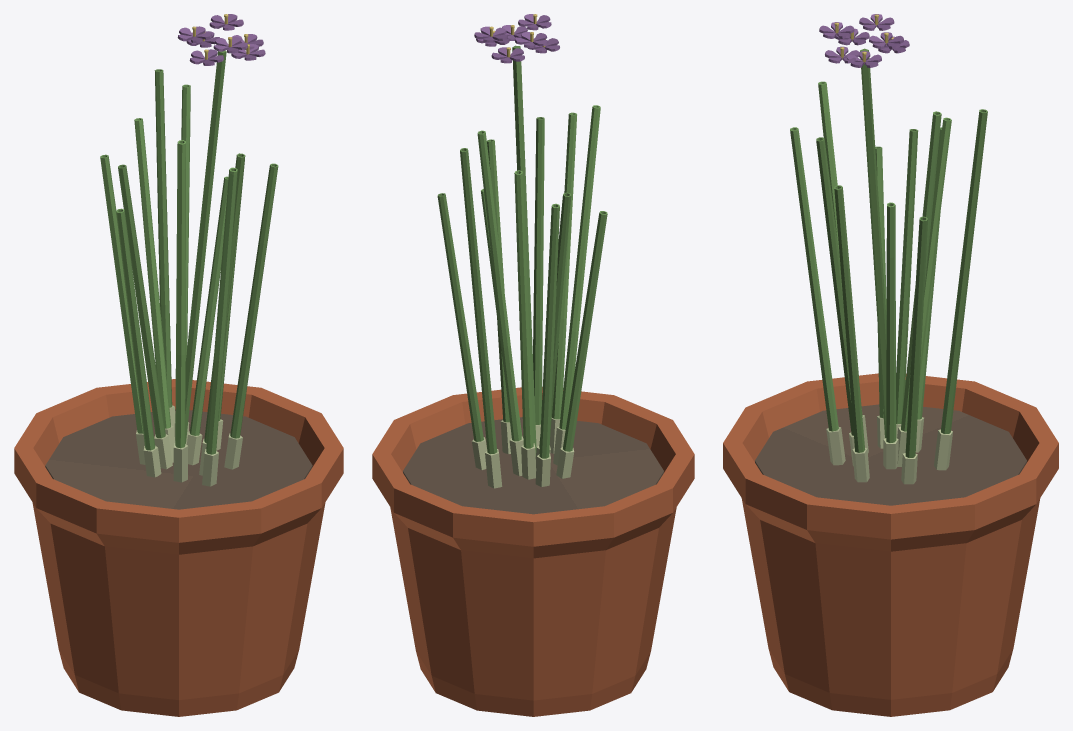
File: chives.glb
The picture shows the model from 3 angles, left to right: view 1: azimuth 30°, elevation 25°; view 2: azimuth 150°, elevation 25°; view 3: azimuth 270°, elevation 25°; orthographic projection. The views are drawn at different scales.
Parts seen in each view (by area): view 1: chives/review-terra-vessel, chives/review-rooted-soil, chives/petiole-025, chives/hollow-tubular-leaf-016, chives/hollow-tubular-leaf-024, chives/hollow-tubular-leaf-014, chives/hollow-tubular-leaf-006, chives/hollow-tubular-leaf-012, chives/hollow-tubular-leaf-020, chives/hollow-tubular-leaf-010, chives/hollow-tubular-leaf-002, chives/hollow-tubular-leaf-004 (+4 smaller); view 2: chives/review-terra-vessel, chives/review-rooted-soil, chives/hollow-tubular-leaf-016, chives/hollow-tubular-leaf-008, chives/hollow-tubular-leaf-024, chives/hollow-tubular-leaf-022, chives/hollow-tubular-leaf-014, chives/hollow-tubular-leaf-004, chives/hollow-tubular-leaf-018, chives/hollow-tubular-leaf-010, chives/hollow-tubular-leaf-006, chives/petiole-025 (+3 smaller); view 3: chives/review-terra-vessel, chives/review-rooted-soil, chives/hollow-tubular-leaf-024, chives/petiole-025, chives/hollow-tubular-leaf-006, chives/hollow-tubular-leaf-020, chives/hollow-tubular-leaf-012, chives/hollow-tubular-leaf-018, chives/hollow-tubular-leaf-002, chives/hollow-tubular-leaf-022, chives/hollow-tubular-leaf-014, chives/hollow-tubular-leaf-008 (+5 smaller).
Part boxes in pixels (x1,y1,x2,y2): chives/review-terra-vessel: [14, 379, 343, 716]; chives/review-rooted-soil: [45, 409, 312, 509]; chives/petiole-025: [185, 50, 226, 443]; chives/hollow-tubular-leaf-016: [175, 140, 185, 448]; chives/hollow-tubular-leaf-024: [154, 69, 172, 407]; chives/hollow-tubular-leaf-014: [134, 118, 170, 428]; chives/hollow-tubular-leaf-006: [206, 167, 237, 454]; chives/hollow-tubular-leaf-012: [230, 163, 278, 438]; chives/hollow-tubular-leaf-020: [118, 164, 165, 438]; chives/hollow-tubular-leaf-010: [116, 208, 155, 450]; chives/hollow-tubular-leaf-002: [189, 176, 228, 435]; chives/hollow-tubular-leaf-004: [100, 154, 143, 433]; chives/review-terra-vessel: [372, 387, 694, 716]; chives/review-rooted-soil: [403, 417, 663, 514]; chives/hollow-tubular-leaf-016: [559, 105, 600, 429]; chives/hollow-tubular-leaf-008: [477, 130, 521, 441]; chives/hollow-tubular-leaf-024: [460, 148, 497, 454]; chives/hollow-tubular-leaf-022: [533, 117, 544, 424]; chives/hollow-tubular-leaf-014: [514, 170, 533, 448]; chives/hollow-tubular-leaf-004: [539, 203, 559, 458]; chives/hollow-tubular-leaf-018: [437, 193, 483, 441]; chives/hollow-tubular-leaf-010: [563, 211, 607, 451]; chives/hollow-tubular-leaf-006: [552, 112, 576, 419]; chives/petiole-025: [512, 45, 536, 456]; chives/review-terra-vessel: [723, 373, 1058, 716]; chives/review-rooted-soil: [755, 404, 1026, 505]; chives/hollow-tubular-leaf-024: [941, 109, 987, 433]; chives/petiole-025: [860, 48, 886, 438]; chives/hollow-tubular-leaf-006: [790, 127, 838, 431]; chives/hollow-tubular-leaf-020: [896, 129, 918, 424]; chives/hollow-tubular-leaf-012: [834, 185, 865, 452]; chives/hollow-tubular-leaf-018: [905, 216, 927, 457]; chives/hollow-tubular-leaf-002: [886, 202, 896, 442]; chives/hollow-tubular-leaf-022: [816, 137, 853, 435]; chives/hollow-tubular-leaf-014: [919, 117, 951, 382]; chives/hollow-tubular-leaf-008: [901, 111, 941, 431].
Bounding box in the file's own units: 0.19 × 0.4099 × 0.19.
6 materials, 6 textured.
